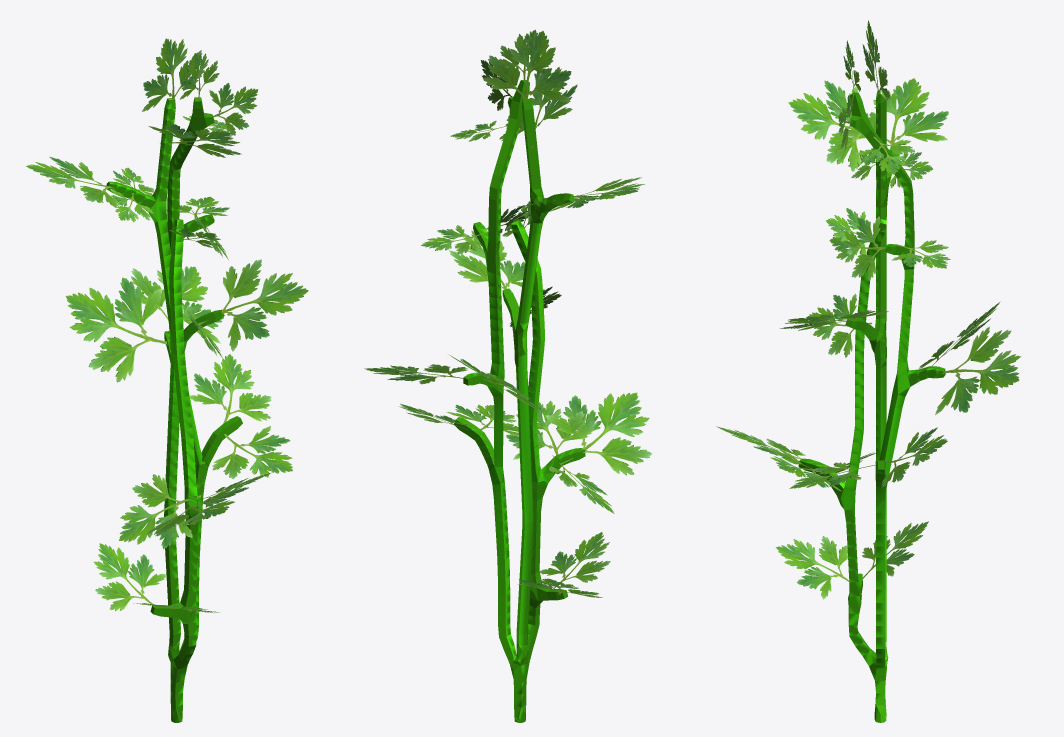
Rendered from salsa.fbx.
3 renders of one model, left to right at view 1: azimuth 30°, elevation 25°; view 2: azimuth 150°, elevation 25°; view 3: azimuth 270°, elevation 25°, orthographic.
Visible parts, largest first — view 1: folha_salsa, salsa; view 2: salsa, folha_salsa; view 3: folha_salsa, salsa.
Part boxes in pixels (<box>): folha_salsa: <box>25,38,308,613</box>; salsa: <box>106,97,242,722</box>; salsa: <box>454,80,585,722</box>; folha_salsa: <box>364,29,651,597</box>; folha_salsa: <box>716,20,1021,599</box>; salsa: <box>798,90,945,722</box>.
Bounding box in the file's own units: 12.21 × 30.3 × 13.17.
